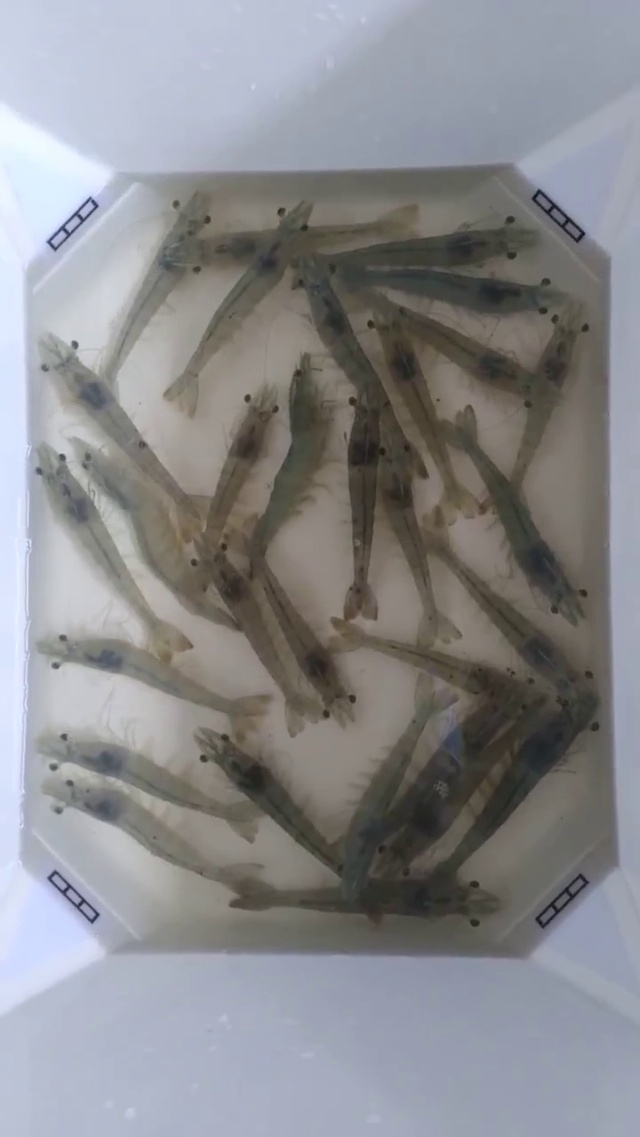shrimp: (544, 443, 639, 750), (552, 523, 639, 825), (558, 195, 639, 487), (377, 408, 478, 584), (477, 314, 576, 489), (454, 167, 566, 314), (29, 263, 123, 434), (194, 410, 265, 635), (300, 245, 390, 411), (206, 200, 312, 337), (119, 193, 209, 354), (76, 374, 186, 504), (20, 734, 105, 893), (35, 579, 175, 674), (34, 440, 132, 574), (422, 828, 526, 953), (121, 602, 234, 712), (0, 538, 48, 788), (311, 782, 390, 927), (168, 728, 261, 842), (0, 339, 29, 611), (215, 386, 277, 503), (328, 616, 375, 727)
